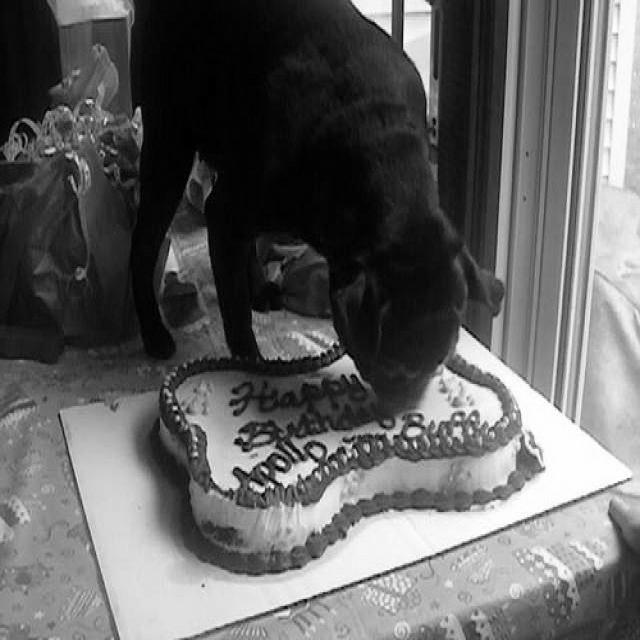dog: (129, 0, 508, 410)
